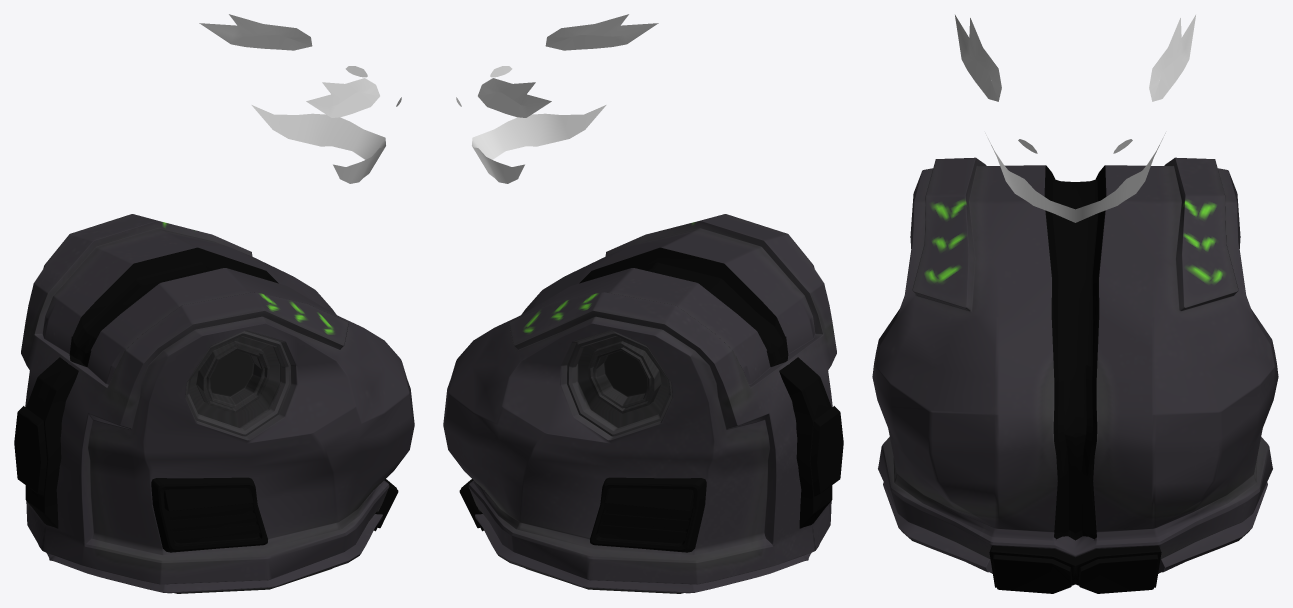
File: AS_DiagF_MOuthA.fbx
The picture shows the model from 3 angles, left to right: view 1: azimuth 30°, elevation 25°; view 2: azimuth 150°, elevation 25°; view 3: azimuth 270°, elevation 25°; orthographic projection. The views are drawn at different scales.
Parts seen in each view (by area): view 1: Chest_armor, Face; view 2: Chest_armor, Face; view 3: Chest_armor, Face.
Boxes of the visible parts, x1,y1,x2,y2 form: Chest_armor: (14,214,414,593); Face: (199,14,401,183); Chest_armor: (443,214,843,593); Face: (456,14,658,183); Chest_armor: (872,157,1278,593); Face: (955,15,1195,222).
Bounding box in the file's own units: 30.78 × 26.77 × 38.9.
